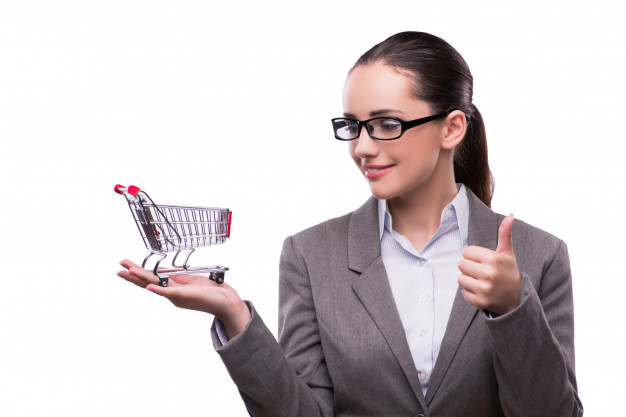thumbsup: (457, 212, 515, 309)
